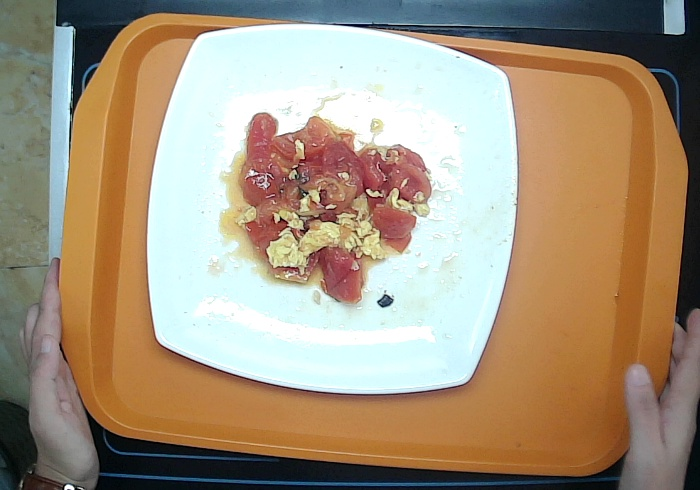ZNLD-Bai_Fang_Pan: (145, 22, 520, 394)
